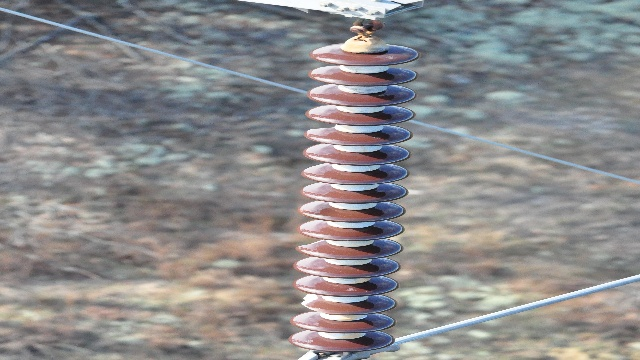broken_local: (301, 125, 354, 133), (295, 239, 326, 248)
insulator_unspecified: (287, 37, 421, 352)
